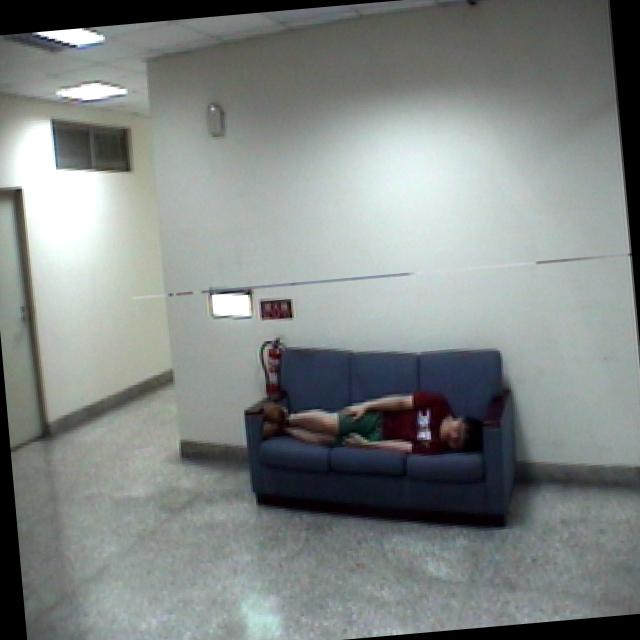lie: (256, 372, 494, 482)
